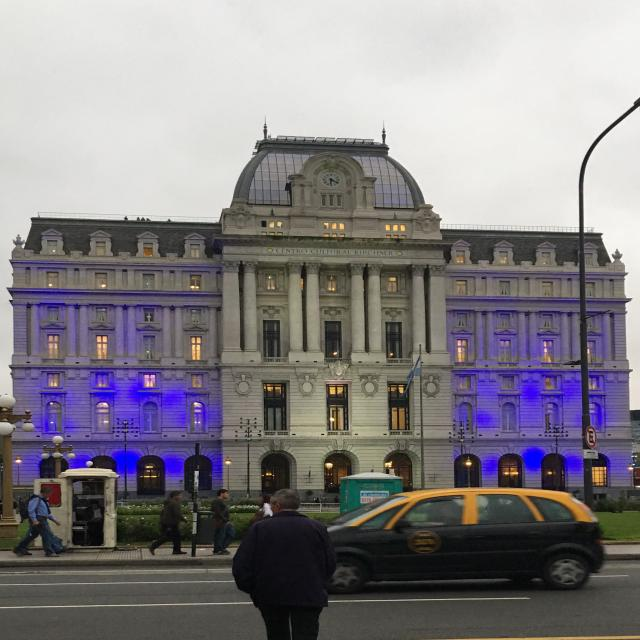body: (230, 486, 340, 640), (398, 496, 562, 526), (11, 486, 62, 558), (146, 489, 190, 556), (18, 518, 71, 556), (210, 488, 237, 556), (80, 498, 113, 548), (0, 492, 32, 525), (136, 481, 166, 495), (258, 493, 274, 517), (321, 495, 329, 507), (334, 496, 339, 508), (315, 497, 321, 506)
